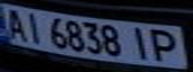3: (81, 20, 103, 55)
6: (42, 16, 69, 50)
8: (100, 21, 127, 57), (60, 18, 84, 53)
A: (0, 6, 30, 42)
I: (124, 25, 157, 61), (21, 10, 48, 44)
P: (145, 26, 187, 63)
